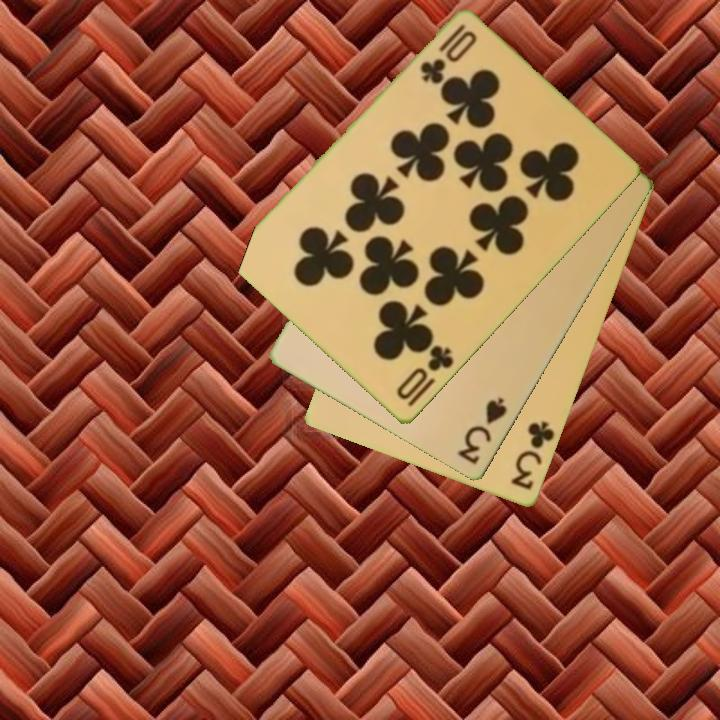10c: (393, 342, 457, 404), (416, 20, 469, 87)
3c: (508, 417, 558, 494)
3s: (453, 394, 511, 468)
